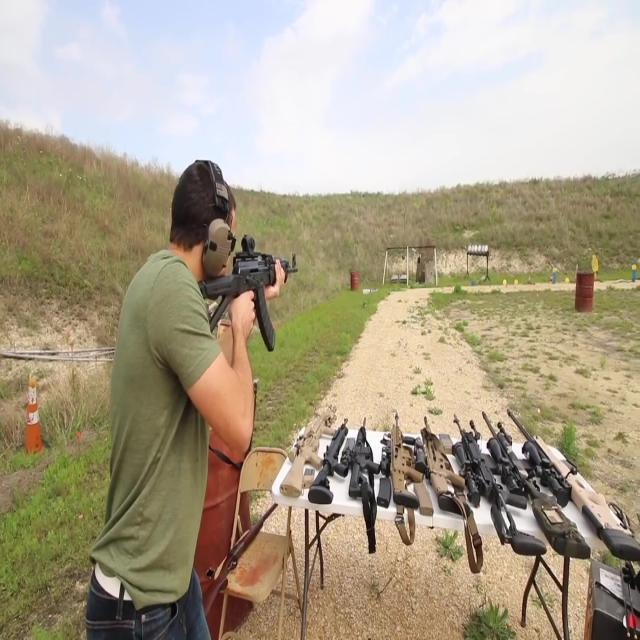Weapon: (256, 359, 640, 582), (154, 196, 309, 369), (154, 458, 298, 612)
